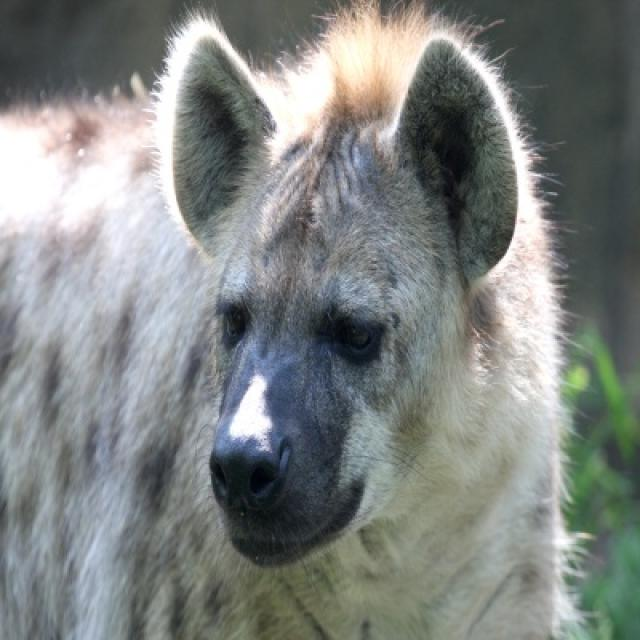hyena: (0, 0, 582, 638)
